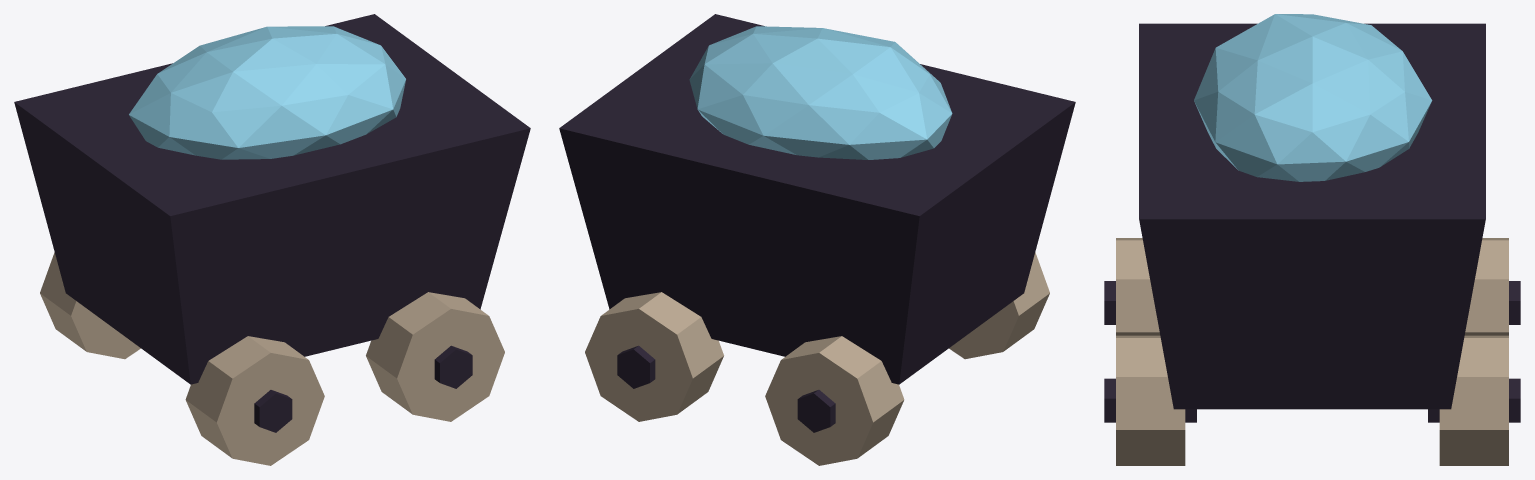
The model's file is mine-cart.glb.
3 views of the same model, side by side, from view 1: azimuth 30°, elevation 25°; view 2: azimuth 150°, elevation 25°; view 3: azimuth 270°, elevation 25° (orthographic). The views are drawn at different scales.
Parts seen in each view (by area): view 1: cave-mine-cart; view 2: cave-mine-cart; view 3: cave-mine-cart.
Boxes of the visible parts, x1=… form: cave-mine-cart: x1=14, y1=14, x2=530, y2=465; cave-mine-cart: x1=559, y1=14, x2=1075, y2=465; cave-mine-cart: x1=1104, y1=14, x2=1520, y2=465.
Size of the model in its own units: 0.4 by 0.3611 by 0.36.
